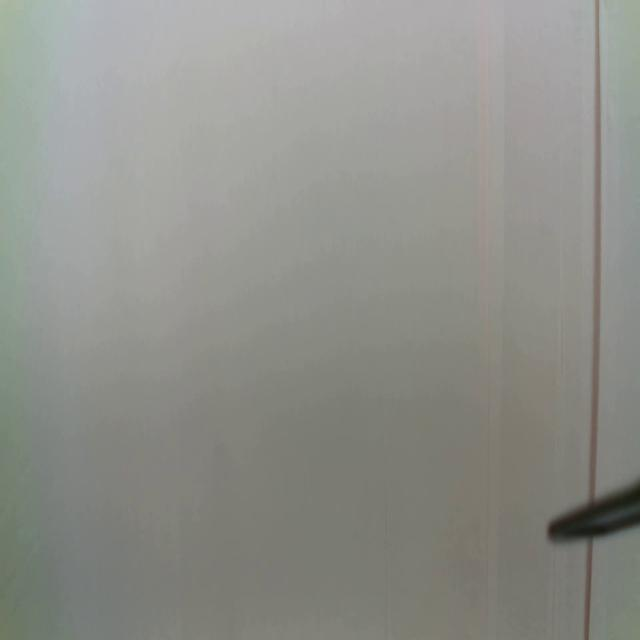crease: (479, 1, 507, 640), (588, 0, 605, 494), (554, 151, 566, 517), (581, 538, 596, 640)
